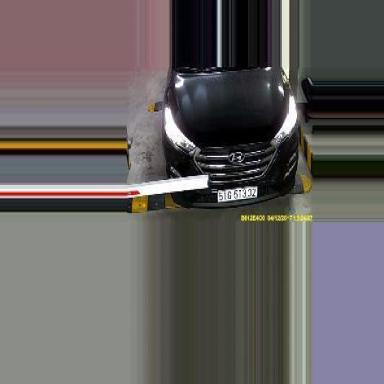License_Plate: (217, 185, 257, 203)
